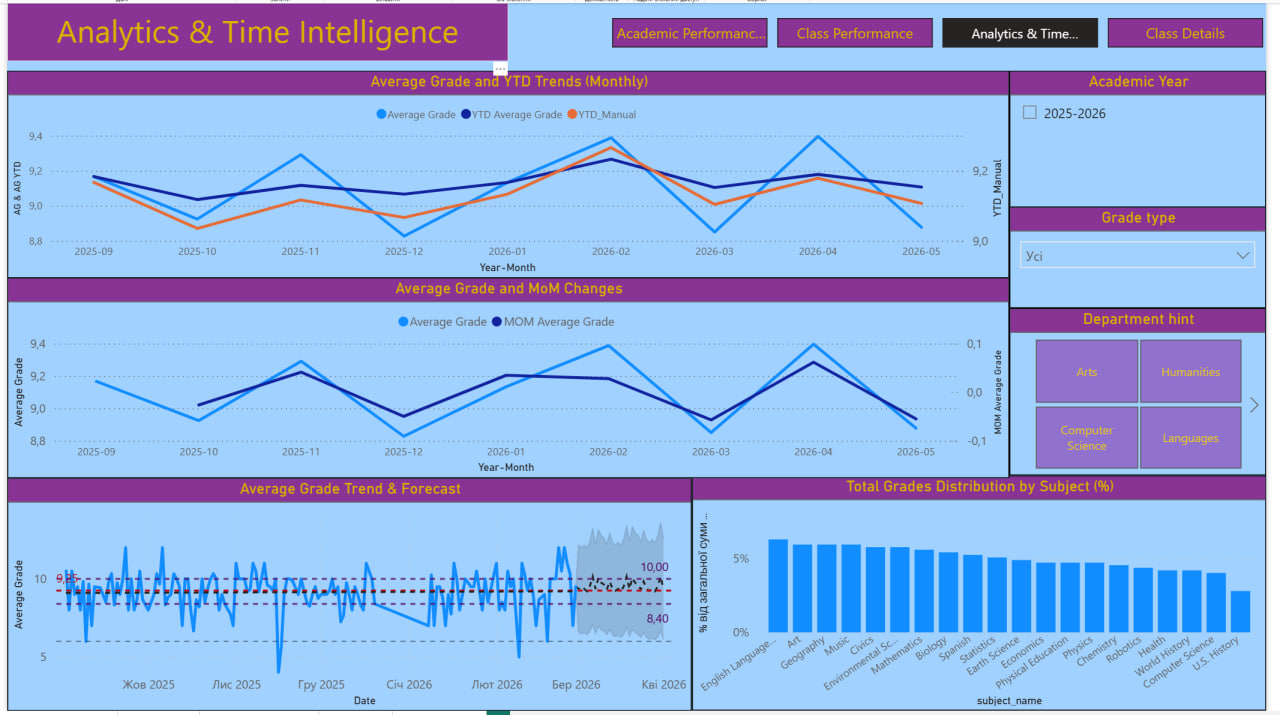

The dashboard page shown, as its layout file describes it:
{"tool":"powerbi","page":{"name":"Analytics & Time Intelligence","canvas":[1280,720],"ordinal":2},"visuals":[{"type":"lineChart","title":"Average Grade Trend & Forecast","fields":{"Category":["CalendarTest.Date"],"Y":["_Measures.Average Grade"]},"box":[0,483.1,696.2,236.9],"z":0},{"type":"clusteredColumnChart","title":"Total Grades Distribution by Subject (%)","fields":{"Category":["subjects.subject_name"],"Y":["_Measures.Total Grades"]},"box":[696.2,480.6,583.8,239.4],"z":1000},{"type":"lineChart","title":"Average Grade and YTD Trends (Monthly)","fields":{"Category":["CalendarTest.Year-Month"],"Y":["_Measures.Average Grade","_Measures.Average Grade YTD"],"Y2":["_Measures.YTD_Manual"]},"box":[0,69,1018.8,210.6],"z":2000},{"type":"lineChart","title":"Average Grade and MoM Changes","fields":{"Category":["CalendarTest.Year-Month"],"Y":["_Measures.Average Grade"],"Y2":["_Measures.MOM Average Grade"]},"box":[0,279.4,1018.8,203.8],"z":3000},{"type":"pageNavigator","box":[615,15,665,30],"z":4000},{"type":"slicer","title":"Grade type","fields":{"Values":["grades.grade_type"]},"box":[1018.8,207.5,261.2,103.1],"z":5000},{"type":"slicer","title":"Academic Year","fields":{"Values":["periods.academic_year"]},"box":[1018.8,68.8,261.2,138.8],"z":6000},{"type":"slicer","title":"Department hint","fields":{"Values":["subjects.department_hint"]},"box":[1018.8,310.6,261.2,170],"z":7000},{"type":"textbox","title":"рпвапрв","box":[0,0,509.4,59.4],"z":8000}]}

Visuals, with their boxes on the page's 1280x720 design canvas (x1, y1, x2, y2). These are canvas units, not pixel positions in the 1280x715 screenshot, which may show the page scaled, cropped or inside an application window:
"Average Grade Trend & Forecast" lineChart: region(0, 483, 696, 720)
"Total Grades Distribution by Subject (%)" clusteredColumnChart: region(696, 481, 1280, 720)
"Average Grade and YTD Trends (Monthly)" lineChart: region(0, 69, 1019, 280)
"Average Grade and MoM Changes" lineChart: region(0, 279, 1019, 483)
pageNavigator: region(615, 15, 1280, 45)
"Grade type" slicer: region(1019, 208, 1280, 311)
"Academic Year" slicer: region(1019, 69, 1280, 208)
"Department hint" slicer: region(1019, 311, 1280, 481)
"рпвапрв" textbox: region(0, 0, 509, 59)
